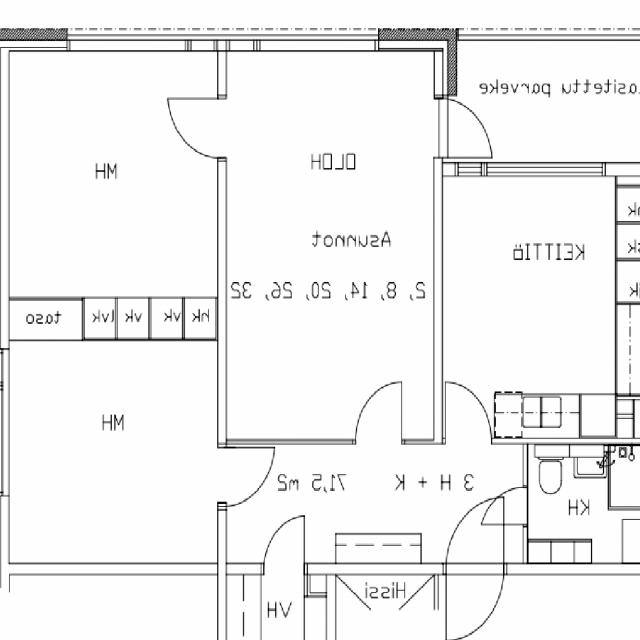door: (446, 484, 507, 576), (446, 561, 507, 640), (166, 95, 227, 158), (216, 447, 272, 505), (434, 99, 491, 154), (356, 379, 402, 443), (446, 379, 492, 443), (264, 509, 304, 576), (493, 488, 528, 525)
